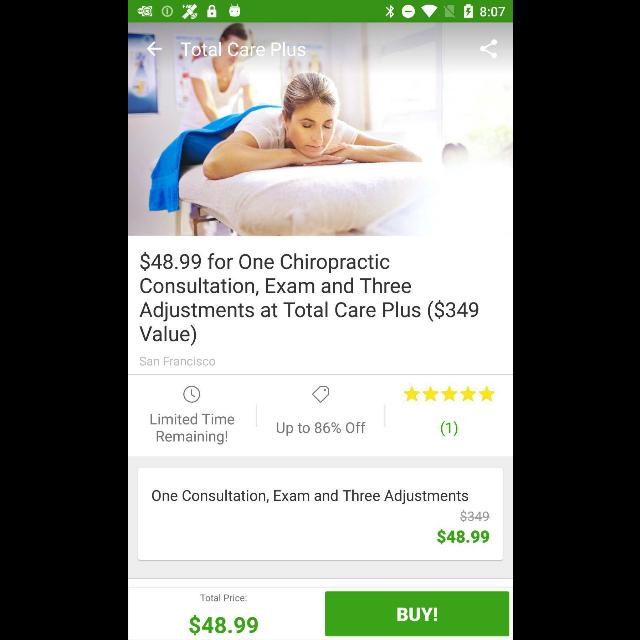icon: (404, 386, 494, 402), (479, 40, 497, 59), (182, 386, 200, 402), (146, 41, 162, 57), (312, 386, 328, 402)
image: (128, 22, 512, 236)
panel: (136, 467, 504, 561)
text: (138, 252, 478, 346), (151, 490, 467, 504), (150, 413, 234, 445), (180, 41, 304, 57), (189, 614, 257, 636), (276, 422, 364, 436), (437, 529, 489, 545), (139, 356, 215, 366), (200, 594, 246, 602), (459, 510, 489, 522), (439, 421, 456, 437)
textbutton: (324, 592, 508, 636)
uppertaskbar: (128, 1, 512, 23)
